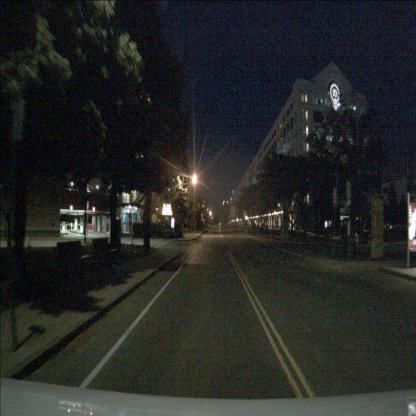human-pedestrian-adult: (129, 218, 132, 233), (189, 223, 191, 234)
vehicle-car: (65, 219, 81, 228)
